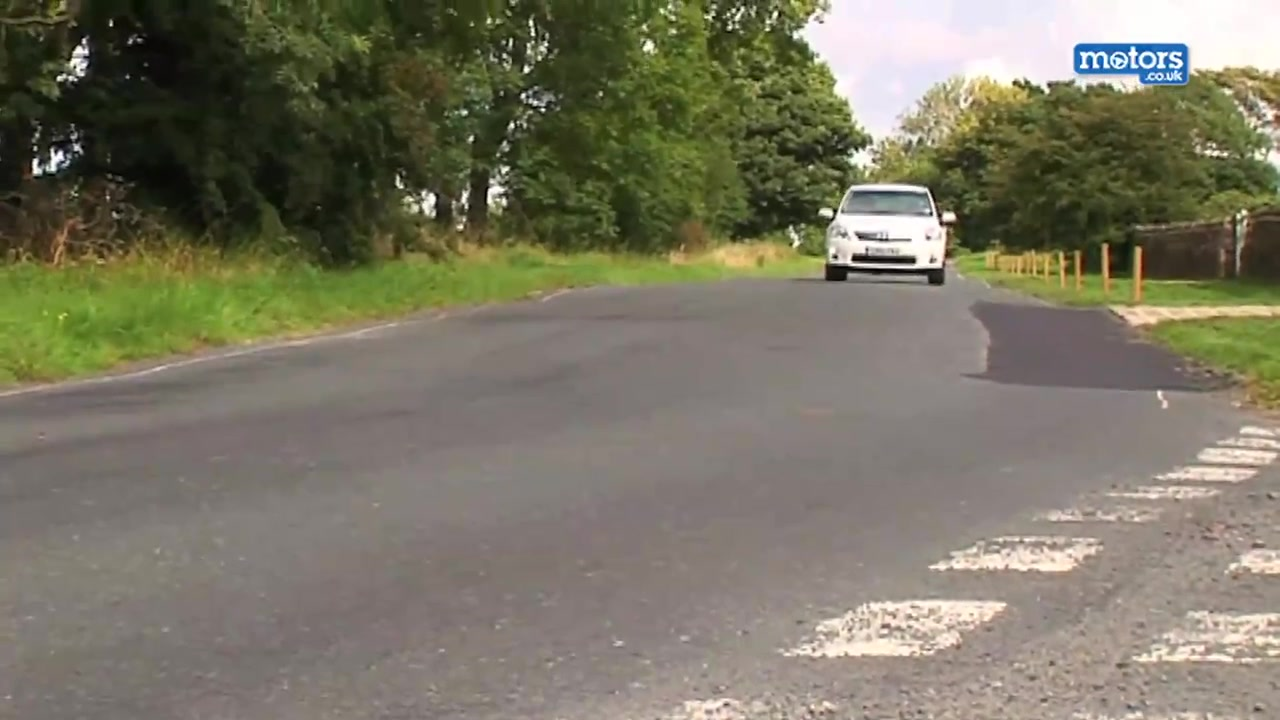car: (814, 177, 961, 283)
